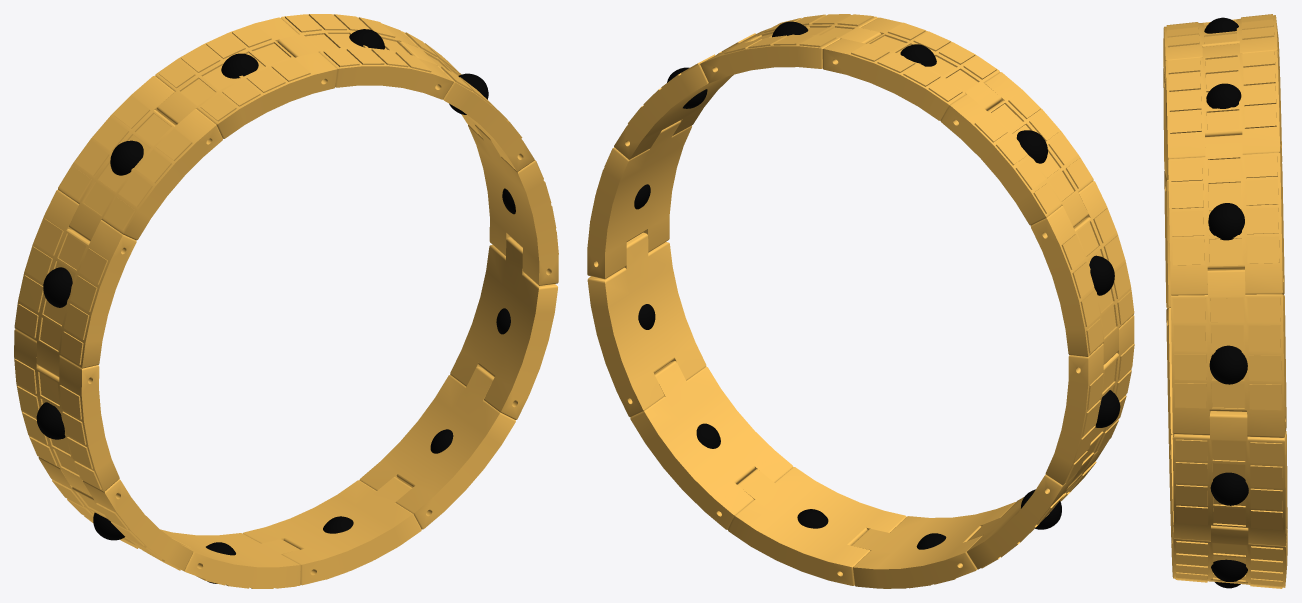
Rendered from finalRing.glb.
The picture shows the model from 3 angles, left to right: view 1: azimuth 30°, elevation 25°; view 2: azimuth 150°, elevation 25°; view 3: azimuth 270°, elevation 25°; orthographic projection. The views are drawn at different scales.
Visible parts, largest first — view 1: Cube_2, Sphere_4; view 2: Cube_2, Sphere_4; view 3: Cube_2, Sphere_4.
Boxes of the visible parts, <box> form: Cube_2: <box>14,14,558,588</box>; Sphere_4: <box>36,29,515,583</box>; Cube_2: <box>587,14,1134,588</box>; Sphere_4: <box>634,21,1120,549</box>; Cube_2: <box>1163,14,1287,588</box>; Sphere_4: <box>1204,17,1248,588</box>.
Size of the model in its own units: 62.58 by 63 by 13.58.
